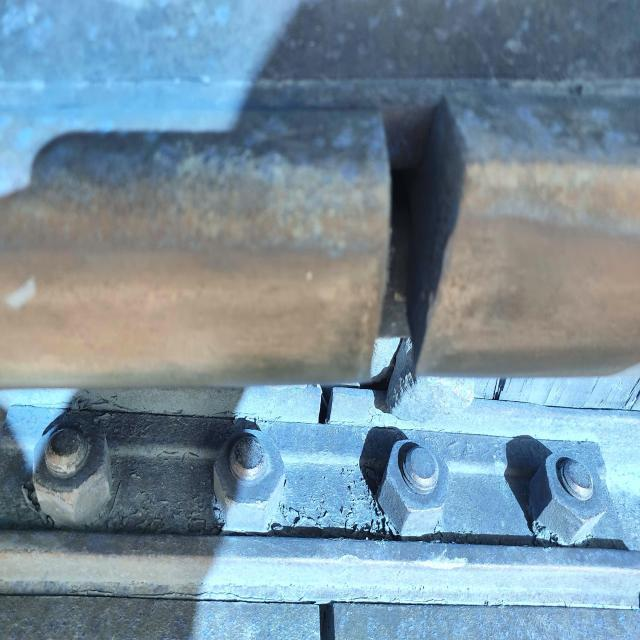Good Joint: (2, 405, 640, 600)
